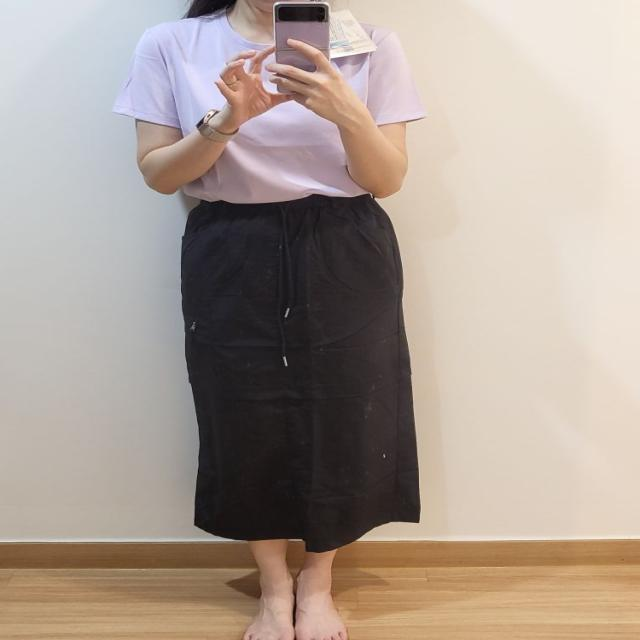shortsleeve: (111, 11, 427, 206)
skirt: (182, 188, 422, 551)
